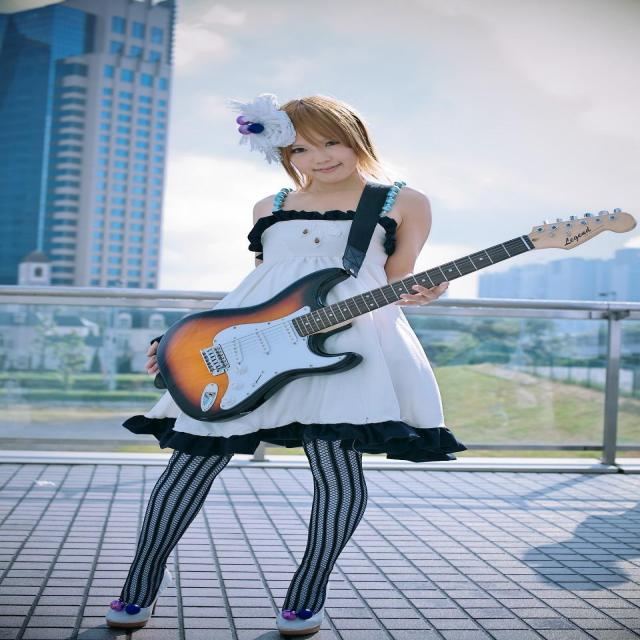guitar: (156, 207, 637, 424)
